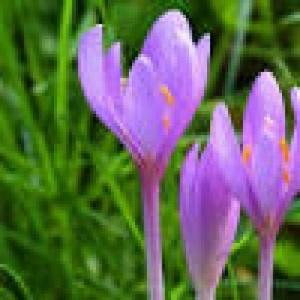Saffron: (82, 9, 209, 187), (214, 72, 300, 247), (189, 134, 260, 300)
